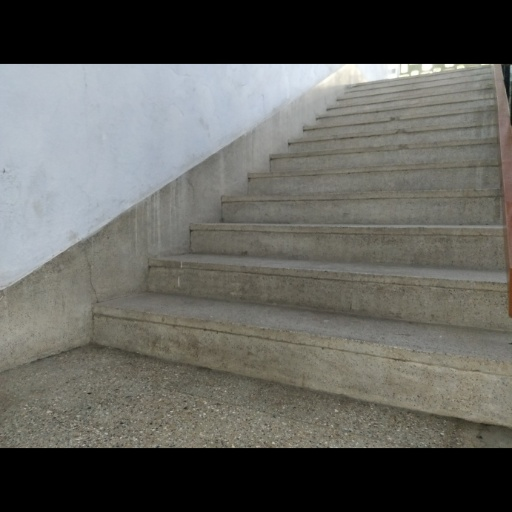Stairs: (94, 68, 512, 427)
